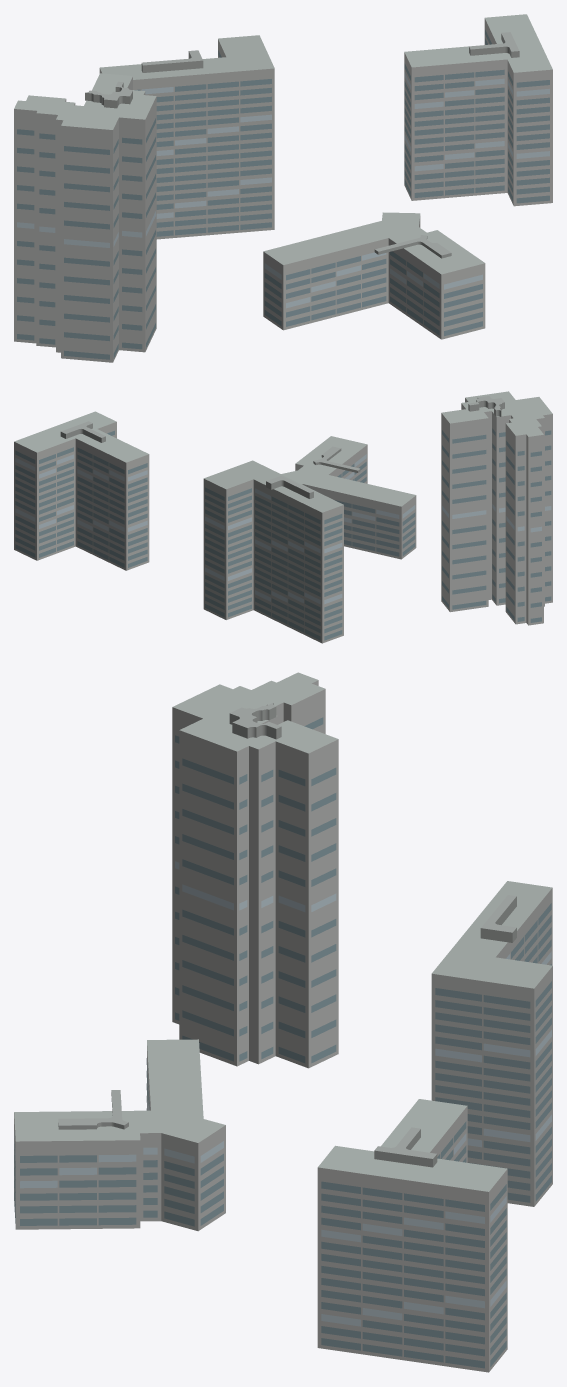
Rendered from apt-a13373302.glb.
3 renders of one model, top to bottom at view 1: azimuth 30°, elevation 25°; view 2: azimuth 150°, elevation 25°; view 3: azimuth 270°, elevation 25°, orthographic. The views are drawn at different scales.
Parts seen in each view (by area): view 1: apt-a13373302; view 2: apt-a13373302; view 3: apt-a13373302.
Part boxes in pixels (bbox=[...]): apt-a13373302: bbox=[14, 14, 552, 362]; apt-a13373302: bbox=[14, 391, 552, 643]; apt-a13373302: bbox=[14, 672, 552, 1372].
Size of the model in its own units: 188 by 74 by 111.
